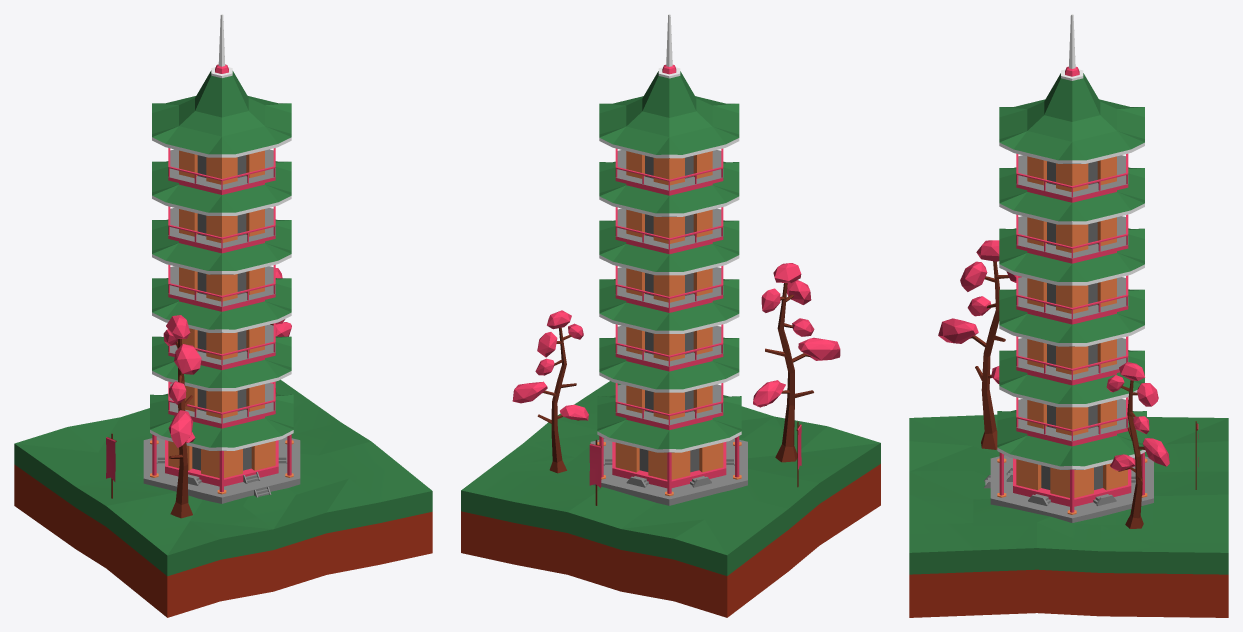
File: MiniMundo_AsiaticTower.glb
The picture shows the model from 3 angles, left to right: view 1: azimuth 30°, elevation 25°; view 2: azimuth 150°, elevation 25°; view 3: azimuth 270°, elevation 25°; orthographic projection. The views are drawn at different scales.
Visible parts, largest first — view 1: building-pagoda-china, world-field (5).001, japan-tree-tall.001; view 2: building-pagoda-china, world-field (5).001, japan-tree-tall.001, japan-tree-tall (1).001, japan-flag_big.001; view 3: building-pagoda-china, world-field (5).001, japan-tree-tall.001, japan-tree-tall (1).001.
Boxes of the visible parts, box(x1,y1,x2,y2) form: building-pagoda-china: box(143, 14, 300, 503); world-field (5).001: box(14, 379, 432, 617); japan-tree-tall.001: box(163, 315, 201, 518); building-pagoda-china: box(590, 14, 747, 505); world-field (5).001: box(461, 381, 880, 617); japan-tree-tall.001: box(753, 263, 840, 462); japan-tree-tall (1).001: box(512, 310, 588, 473); japan-flag_big.001: box(589, 439, 601, 505); building-pagoda-china: box(984, 14, 1153, 522); world-field (5).001: box(909, 414, 1228, 617); japan-tree-tall.001: box(938, 240, 1021, 449); japan-tree-tall (1).001: box(1106, 362, 1169, 528).
Size of the model in its own units: 20.01 by 37.06 by 20.01.
